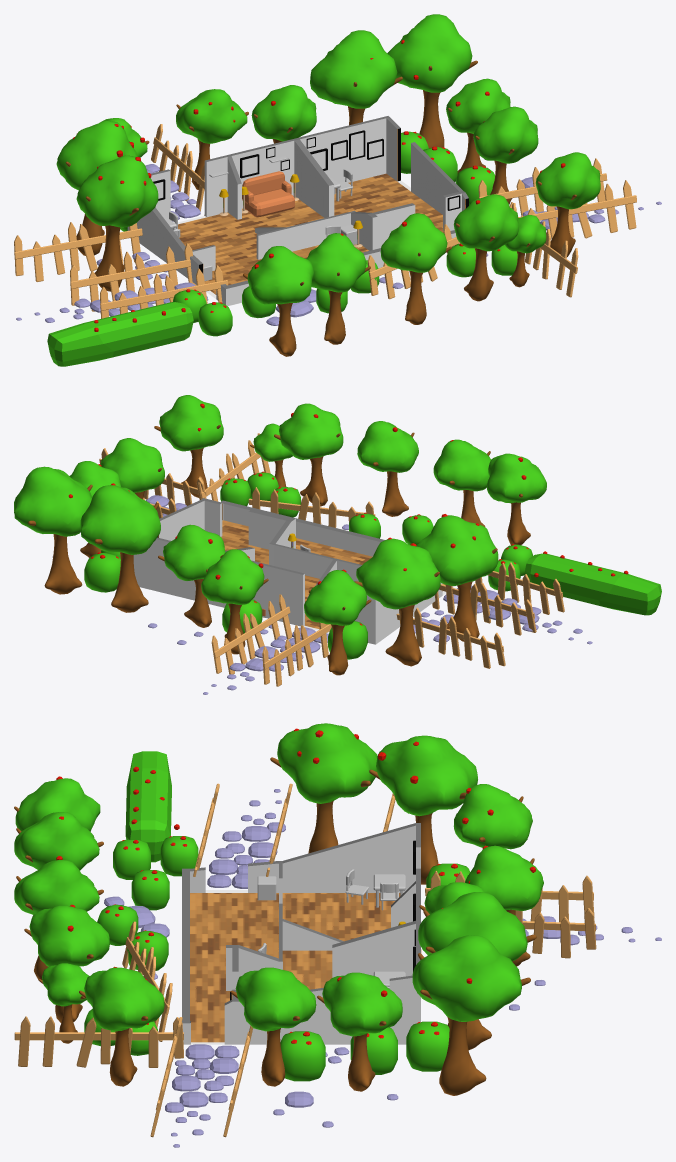
File: house2.fbx
3 renders of one model, top to bottom at view 1: azimuth 30°, elevation 25°; view 2: azimuth 150°, elevation 25°; view 3: azimuth 270°, elevation 25°, orthographic. The views are drawn at different scales.
Visible parts, largest first — view 1: Cube, Cube.035, Plane.007, Plane.011, Plane.006, Plane.015, Plane.012, Plane.013, Plane.004, Plane.010, Plane.014, Plane.003 (+22 smaller); view 2: Cube, Plane.006, Plane.010, Plane.007, Cube.035, Plane.011, Plane.012, Plane.009, Plane.004, Plane.005, Plane.013, Plane.008 (+22 smaller); view 3: Cube, Plane.007, Plane.011, Plane.010, Plane.006, Plane.004, Plane.002, Plane.003, Plane.012, Cube.035, Plane.009, Plane.008 (+18 smaller).
Boxes of the visible parts, <box> form: Cube: <box>127,116,468,306</box>; Cube.035: <box>47,302,193,366</box>; Plane.007: <box>387,14,477,148</box>; Plane.011: <box>76,155,158,291</box>; Plane.006: <box>310,30,402,125</box>; Plane.015: <box>243,246,313,356</box>; Plane.012: <box>453,194,518,301</box>; Plane.013: <box>380,213,451,324</box>; Plane.004: <box>535,152,600,256</box>; Plane.010: <box>56,120,137,255</box>; Plane.014: <box>306,233,370,344</box>; Plane.003: <box>473,106,538,204</box>; Cube: <box>133,498,455,644</box>; Plane.006: <box>80,485,160,612</box>; Plane.010: <box>354,538,440,666</box>; Plane.007: <box>14,466,92,594</box>; Cube.035: <box>525,553,661,615</box>; Plane.011: <box>416,515,498,641</box>; Plane.012: <box>274,403,343,506</box>; Plane.009: <box>304,570,371,675</box>; Plane.004: <box>154,395,223,497</box>; Plane.005: <box>158,524,225,627</box>; Plane.013: <box>357,421,418,516</box>; Plane.008: <box>201,549,268,654</box>; Cube: <box>182,823,420,1044</box>; Plane.007: <box>412,935,530,1095</box>; Plane.011: <box>270,723,377,853</box>; Plane.010: <box>369,735,477,884</box>; Plane.006: <box>418,892,536,1049</box>; Plane.004: <box>79,967,164,1086</box>; Plane.002: <box>317,972,402,1091</box>; Plane.003: <box>230,967,316,1086</box>; Plane.012: <box>24,905,109,1022</box>; Cube.035: <box>125,751,171,862</box>; Plane.009: <box>453,784,532,849</box>; Plane.008: <box>465,845,543,966</box>.
Bounding box in the file's own units: 11.49 × 2.4 × 8.54.
Materials: 1 (1 with a texture image).
